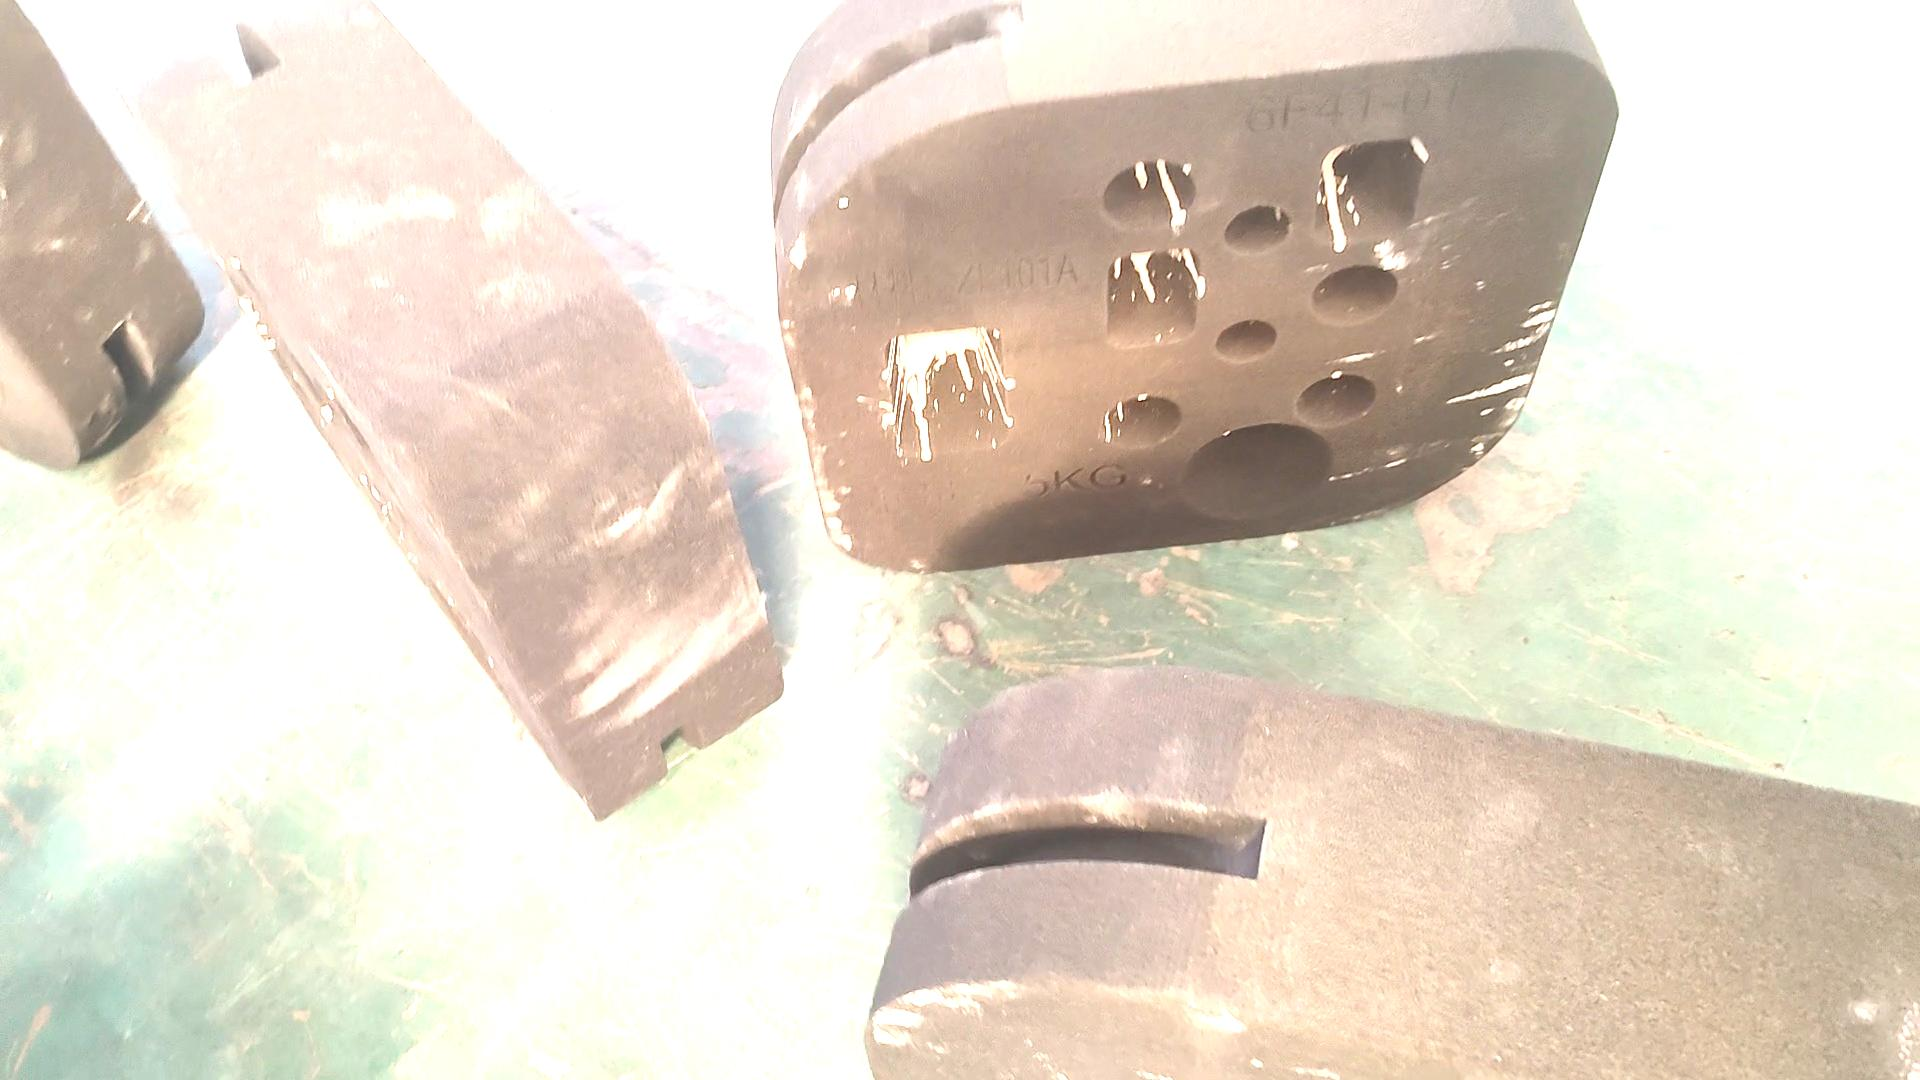pouring hole: (1180, 423, 1335, 524), (422, 580, 512, 705)
